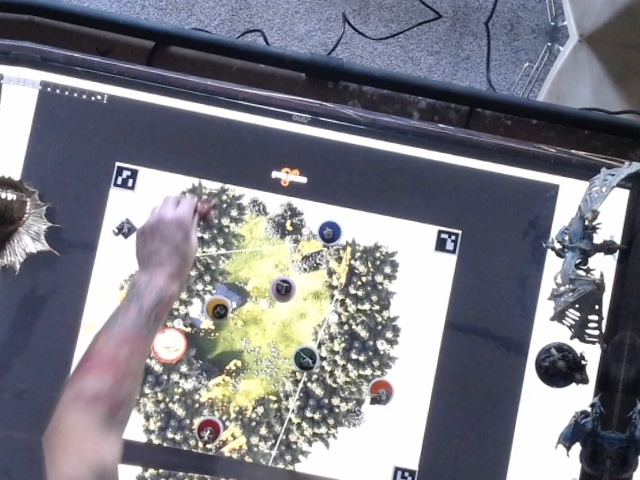blue: (312, 217, 345, 249)
green: (287, 340, 325, 375)
orange: (359, 367, 404, 409)
pink: (260, 270, 303, 306)
red: (189, 404, 231, 449)
yellow: (199, 289, 237, 325)
